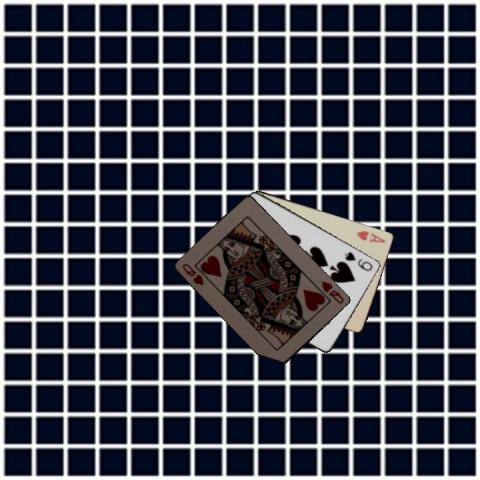9s: (341, 248, 374, 272)
Ah: (353, 227, 387, 244)
Qh: (319, 278, 346, 305), (179, 260, 206, 287)
